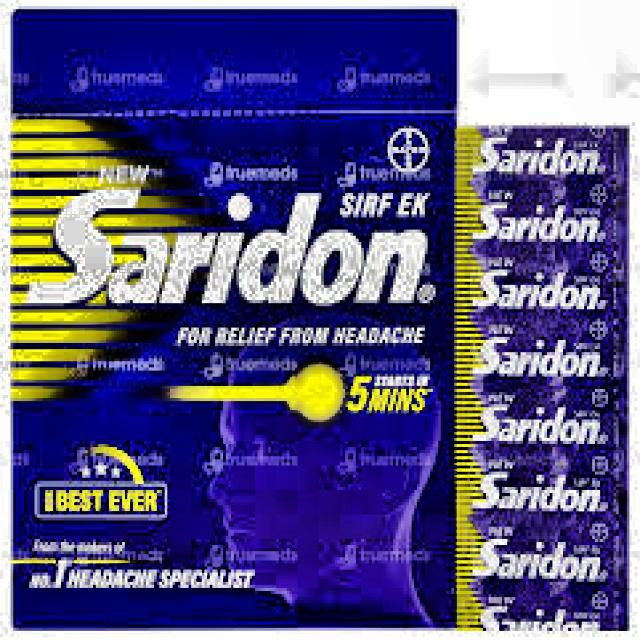Saridon: (29, 149, 442, 380), (456, 127, 637, 636)
